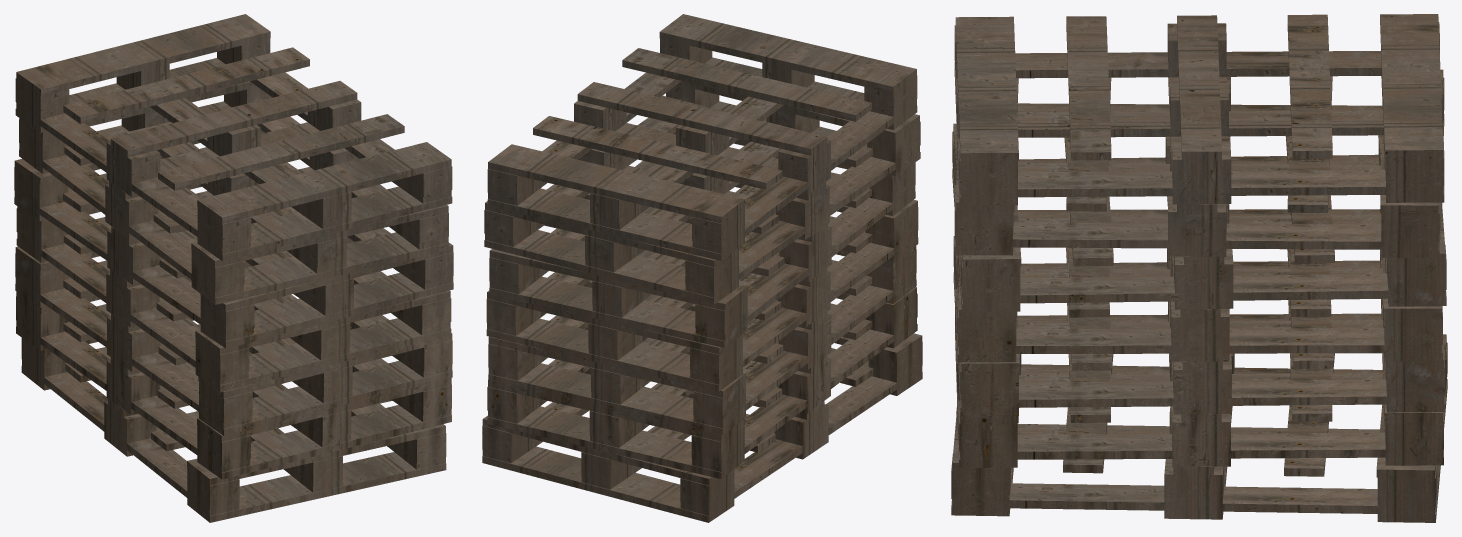
The model's file is pallet_empty_stack.glb.
3 renders of one model, left to right at view 1: azimuth 30°, elevation 25°; view 2: azimuth 150°, elevation 25°; view 3: azimuth 270°, elevation 25°, orthographic. The views are drawn at different scales.
Parts seen in each view (by area): view 1: pallet_empty_stack; view 2: pallet_empty_stack; view 3: pallet_empty_stack.
Boxes of the visible parts, left/top/right/bottom form: pallet_empty_stack: left=14, top=14, right=453, bottom=522; pallet_empty_stack: left=482, top=14, right=922, bottom=522; pallet_empty_stack: left=951, top=14, right=1447, bottom=522.
Bounding box in the file's own units: 0.8439 × 1.01 × 1.23.
1 material, 1 textured.
